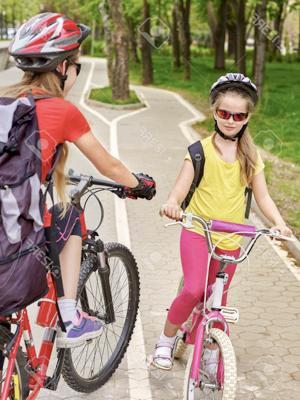With Helmet: (4, 9, 84, 102), (204, 68, 263, 139)
